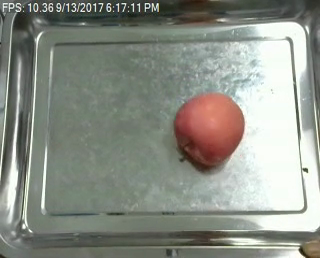Apple: (173, 91, 244, 167)
